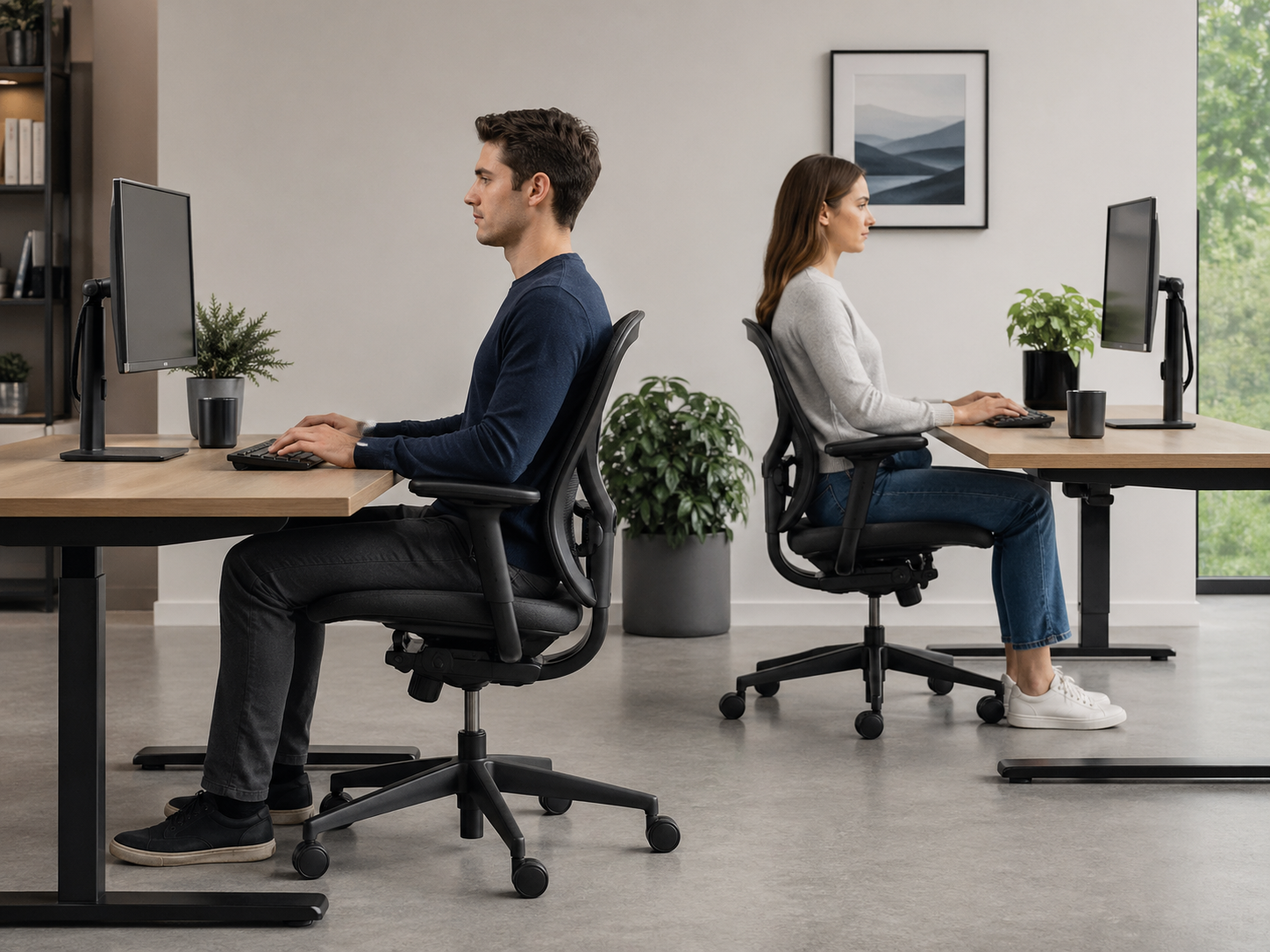sitting_good: (102, 102, 608, 823), (762, 153, 1117, 728)
